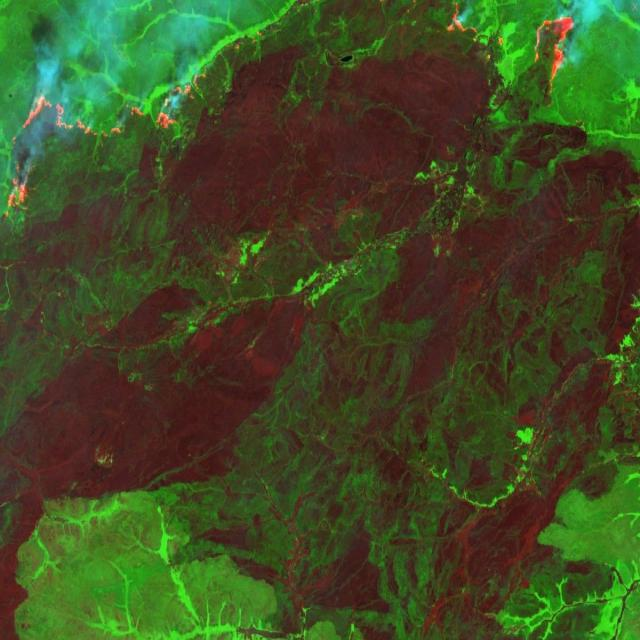fire: (2, 71, 211, 219), (437, 0, 586, 88)
